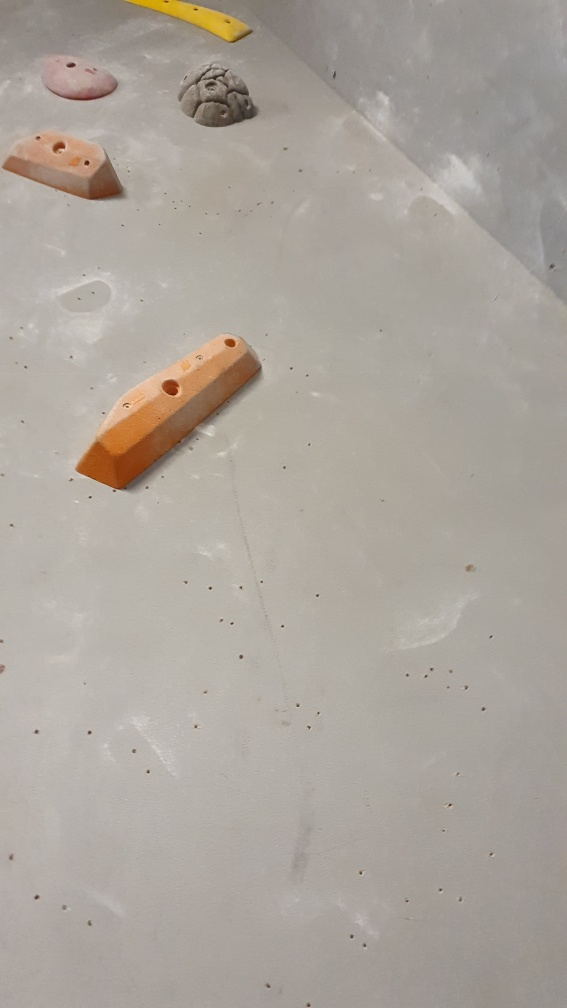Crimp: (122, 1, 253, 45)
Jug: (173, 58, 261, 135)
Pinch: (74, 330, 264, 494), (1, 124, 125, 204)
